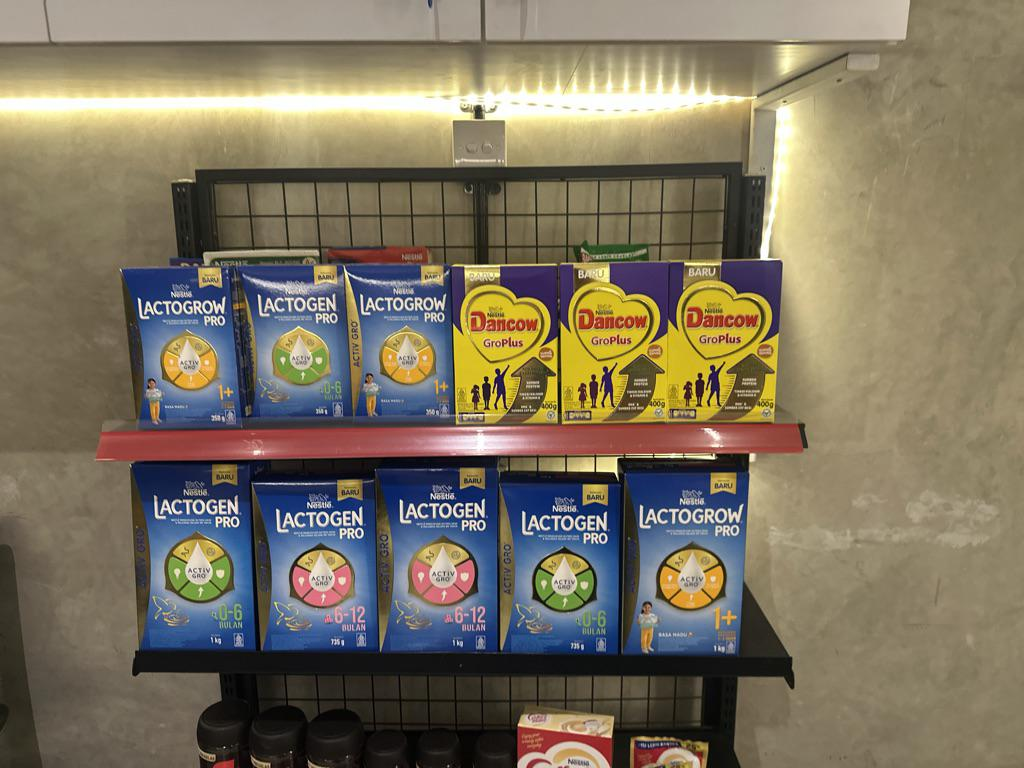LACTOGEN PRO 0-6 mo 12x1kg ID: (128, 459, 257, 649)
LACTOGEN PRO 0-6 mo 12x735g ID: (496, 468, 620, 656)
LACTOGEN PRO 0-6 mo 24x350g ID: (236, 260, 352, 428)
LACTOGEN PRO 6-12 mo 12x1kg ID: (252, 468, 376, 652), (374, 470, 499, 652)
LACTOGEN PRO 6-12 mo 12x735g ID: (253, 479, 377, 653)
LACTOGROW PRO 1+ Honey 12x1kg ID: (617, 464, 747, 654)
LACTOGROW PRO 1+ Honey 24x350g ID: (121, 261, 244, 431), (233, 260, 353, 425), (341, 261, 457, 426)
